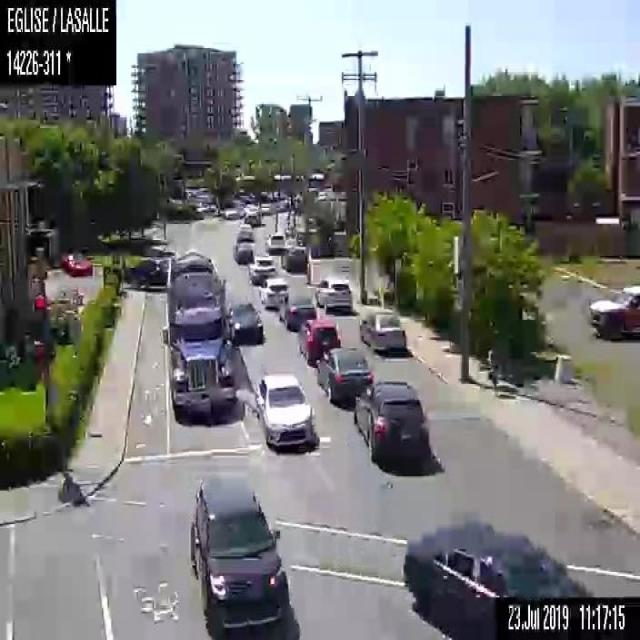vehicle: (402, 513, 586, 639), (188, 473, 292, 636), (159, 249, 237, 419), (353, 378, 429, 462), (252, 368, 313, 448), (313, 346, 373, 406), (591, 282, 639, 344), (358, 306, 408, 351), (297, 316, 340, 364), (225, 298, 263, 345), (276, 286, 316, 328), (124, 255, 172, 289), (314, 276, 352, 314), (257, 275, 287, 309), (248, 254, 278, 285), (281, 243, 307, 272), (61, 252, 93, 275), (264, 232, 285, 254), (234, 236, 253, 260), (243, 206, 260, 226), (222, 208, 240, 220)
